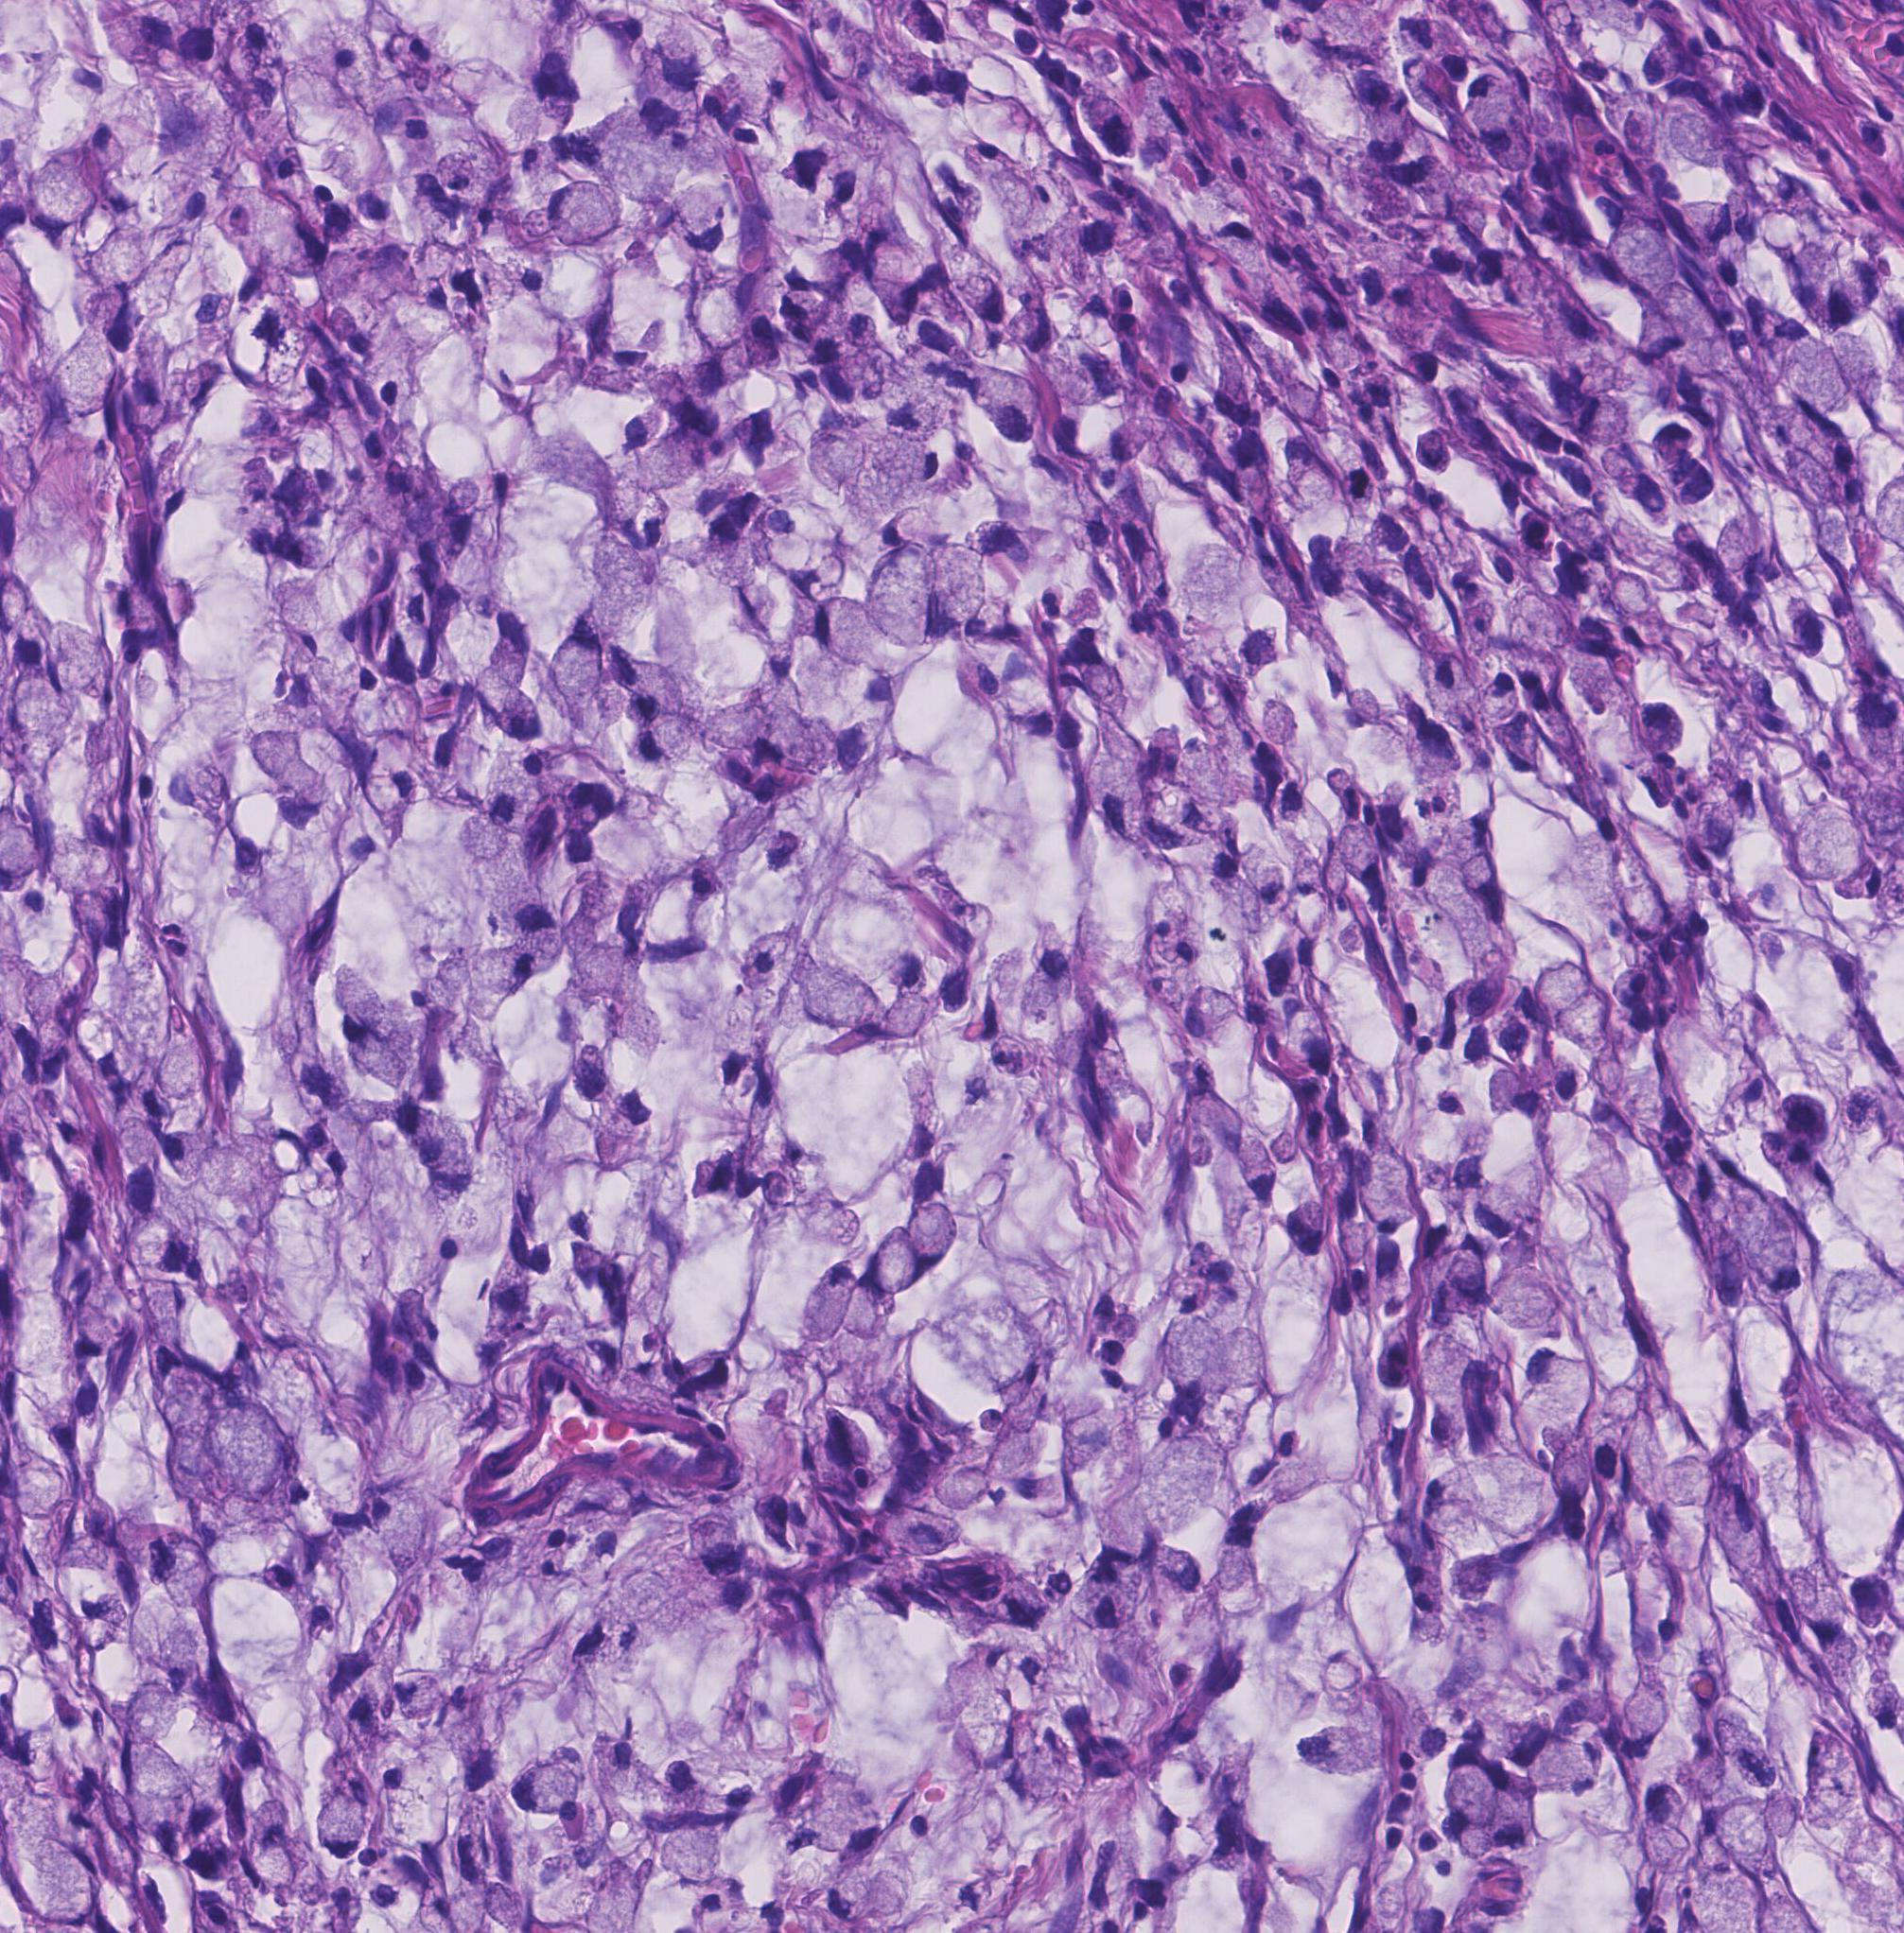ring_cell_cancer: (232, 185, 328, 281), (274, 589, 359, 690), (1418, 1330, 1486, 1454), (1703, 1447, 1768, 1576), (1412, 859, 1493, 962), (584, 882, 650, 999), (900, 270, 980, 364), (378, 1743, 450, 1846), (364, 1487, 471, 1553), (685, 1727, 769, 1811), (241, 652, 323, 737), (804, 1774, 889, 1856), (1088, 1306, 1163, 1394), (14, 873, 78, 976), (966, 361, 1044, 444), (136, 1611, 213, 1696), (1737, 1206, 1806, 1299), (1419, 647, 1487, 737), (1527, 1719, 1606, 1797), (146, 1363, 232, 1434), (781, 1820, 846, 1914), (1083, 739, 1142, 840), (797, 969, 889, 1034), (1710, 1706, 1780, 1792), (24, 157, 98, 237), (605, 640, 689, 708), (781, 232, 870, 295), (1231, 1382, 1278, 1501), (364, 310, 420, 410), (926, 546, 983, 641), (1048, 336, 1123, 410), (753, 708, 832, 777), (1250, 906, 1313, 994), (1641, 1778, 1698, 1872), (120, 1776, 185, 1860), (58, 1551, 129, 1626), (1074, 1555, 1144, 1631), (797, 1258, 860, 1342), (943, 242, 1006, 326), (1355, 1154, 1418, 1238), (872, 1502, 966, 1558), (832, 690, 894, 774), (340, 1016, 413, 1088), (1777, 317, 1834, 406), (1616, 207, 1677, 291), (549, 181, 624, 249), (816, 596, 884, 671), (474, 668, 542, 743), (1672, 73, 1726, 167), (1231, 593, 1297, 669), (1163, 1316, 1221, 1403), (1146, 774, 1227, 835), (246, 1797, 300, 1889), (1522, 1346, 1597, 1412), (1057, 1405, 1132, 1471), (1616, 1673, 1672, 1760), (631, 71, 703, 139), (1479, 1696, 1550, 1764), (122, 1738, 195, 1804), (1745, 152, 1819, 218), (1165, 1387, 1240, 1452), (1126, 1778, 1179, 1870), (45, 621, 108, 697), (1299, 755, 1360, 833), (148, 1529, 211, 1604), (513, 1750, 582, 1816), (338, 1665, 405, 1734), (112, 1508, 176, 1579), (889, 376, 961, 441), (1702, 1799, 1775, 1862), (704, 504, 758, 587), (751, 648, 809, 727), (1297, 1727, 1390, 1776), (861, 1227, 924, 1299), (764, 505, 837, 566), (602, 1086, 654, 1171), (1283, 437, 1341, 514), (1585, 1384, 1629, 1485), (422, 1114, 478, 1192), (547, 633, 607, 706), (331, 967, 389, 1042), (994, 1651, 1057, 1719), (858, 227, 928, 288), (1283, 499, 1353, 560), (1449, 1740, 1498, 1827), (1091, 1269, 1170, 1323), (483, 608, 534, 692), (1405, 1701, 1479, 1759), (1494, 973, 1541, 1061), (1212, 220, 1276, 284), (368, 1860, 432, 1924), (1716, 234, 1766, 315), (180, 293, 237, 364), (228, 797, 286, 868), (863, 990, 935, 1048), (1543, 1028, 1599, 1102), (650, 12, 704, 87), (1219, 1501, 1262, 1593), (1020, 948, 1076, 1020), (1404, 720, 1466, 783), (450, 458, 516, 518), (661, 1741, 710, 1821), (284, 1049, 342, 1117), (673, 183, 729, 253), (743, 922, 799, 992), (350, 183, 420, 239), (89, 281, 143, 352), (1153, 1546, 1207, 1618), (1355, 239, 1411, 307), (516, 899, 567, 974), (1332, 821, 1386, 891), (1238, 842, 1294, 908), (70, 1009, 126, 1075), (872, 434, 942, 486), (1693, 779, 1738, 859), (875, 504, 955, 549), (331, 38, 382, 110), (146, 174, 211, 230), (945, 1642, 1011, 1696), (614, 481, 668, 547), (474, 943, 541, 997), (145, 1312, 190, 1391), (847, 1265, 894, 1340), (1287, 1009, 1337, 1079), (126, 1215, 185, 1274), (1473, 113, 1533, 173), (7, 683, 70, 739), (1419, 1185, 1468, 1257), (1445, 1236, 1494, 1307), (907, 1204, 961, 1269), (321, 1783, 366, 1860), (1003, 1750, 1064, 1806), (272, 770, 328, 831), (1784, 237, 1831, 309), (1496, 709, 1545, 777), (1463, 75, 1520, 132), (403, 284, 459, 343), (1468, 1187, 1531, 1239), (1554, 507, 1616, 560), (364, 94, 431, 143), (1632, 699, 1688, 756), (833, 143, 875, 220), (1365, 94, 1412, 162), (1550, 1438, 1595, 1508), (1571, 396, 1635, 444), (1182, 985, 1240, 1039), (131, 1070, 188, 1124), (1639, 303, 1693, 361), (169, 746, 220, 807), (642, 713, 696, 769), (1233, 1138, 1278, 1204), (1400, 12, 1466, 58), (28, 1023, 73, 1088), (364, 763, 420, 816), (124, 375, 171, 436), (1411, 157, 1458, 218), (1491, 1788, 1536, 1851), (568, 1041, 610, 1107), (596, 1738, 642, 1799), (1723, 180, 1763, 248), (492, 776, 541, 831), (499, 246, 556, 293), (1388, 129, 1433, 188), (1683, 197, 1735, 248), (392, 1675, 446, 1724), (105, 159, 152, 214), (337, 817, 378, 880), (1107, 417, 1161, 464), (169, 1129, 214, 1185), (826, 1872, 874, 1924), (82, 125, 127, 178), (1620, 610, 1669, 655), (1646, 31, 1688, 84), (1482, 669, 1520, 722), (436, 152, 481, 193)
